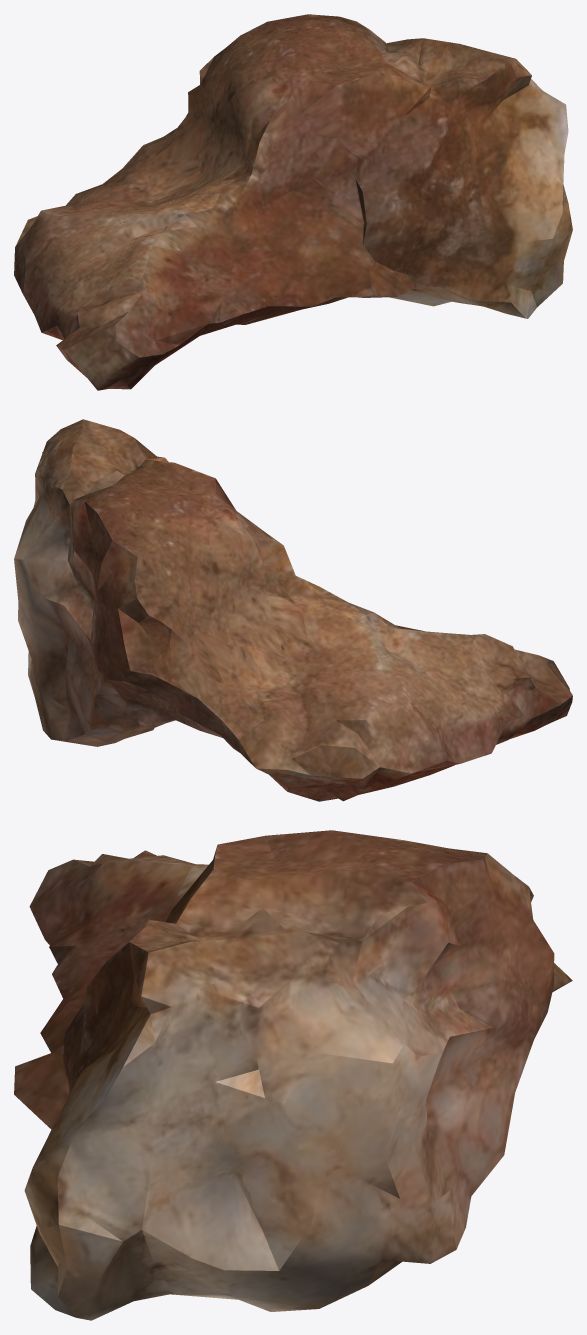
File: stone_01.glb
3 views of the same model, one above another, from view 1: azimuth 30°, elevation 25°; view 2: azimuth 150°, elevation 25°; view 3: azimuth 270°, elevation 25° (orthographic). The views are drawn at different scales.
Visible parts, largest first — view 1: stone_01; view 2: stone_01; view 3: stone_01.
Part boxes in pixels (box(x1,y1,x2,y2)): stone_01: box(14, 14, 572, 390); stone_01: box(14, 419, 572, 801); stone_01: box(14, 830, 572, 1320).
Size of the model in its own units: 0.1457 by 0.0712 by 0.0886.
Materials: 1 (1 with a texture image).
